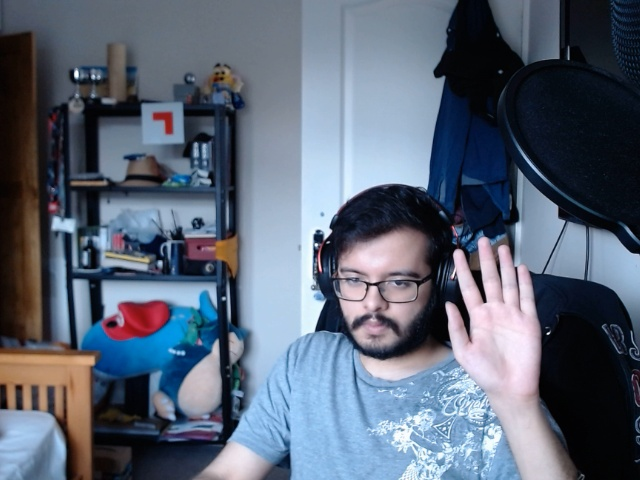Hello: (442, 226, 554, 404)
